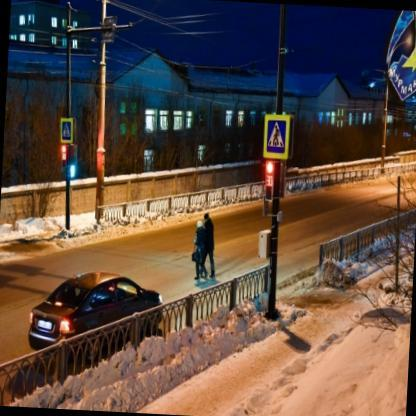road_sign: (264, 116, 291, 159), (60, 118, 74, 143)
traffic light: (262, 161, 277, 202), (61, 144, 69, 164)
